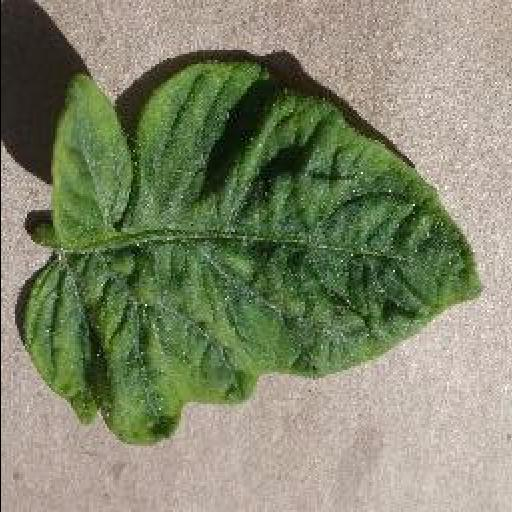disease_tomato: (20, 60, 486, 446)
